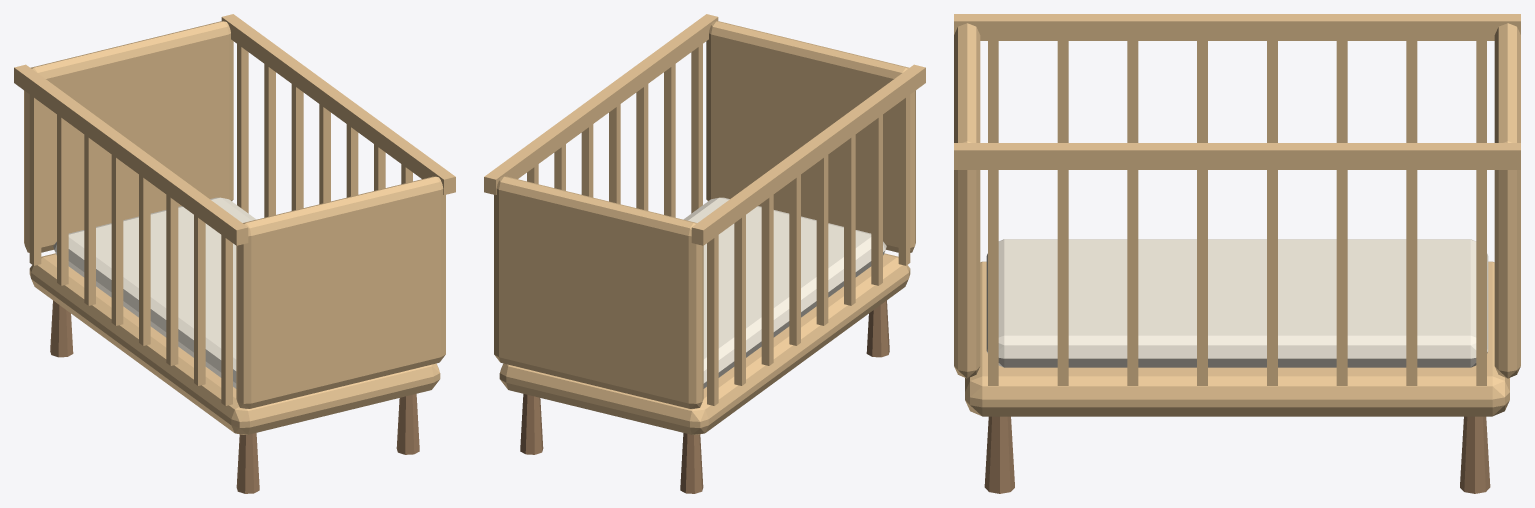
File: cozy-home-interiors-cot-69ac6078.glb
3 renders of one model, left to right at view 1: azimuth 30°, elevation 25°; view 2: azimuth 150°, elevation 25°; view 3: azimuth 270°, elevation 25°, orthographic. The views are drawn at different scales.
Parts seen in each view (by area): view 1: cot; view 2: cot; view 3: cot.
Boxes of the visible parts, <box> form: cot: <box>14,14,455,493</box>; cot: <box>484,14,925,493</box>; cot: <box>954,14,1520,493</box>.
Bounding box in the file's own units: 0.7401 × 0.9 × 1.3.
